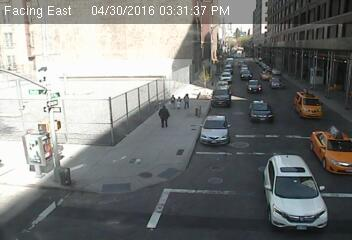neg: (21, 120, 46, 154), (46, 159, 67, 188), (22, 56, 43, 83), (10, 22, 30, 49), (94, 89, 114, 115), (35, 89, 54, 114), (107, 32, 123, 54), (255, 63, 269, 82), (233, 65, 245, 81)
pos: (154, 104, 174, 130), (181, 90, 196, 110), (164, 91, 176, 107), (174, 94, 184, 108)
